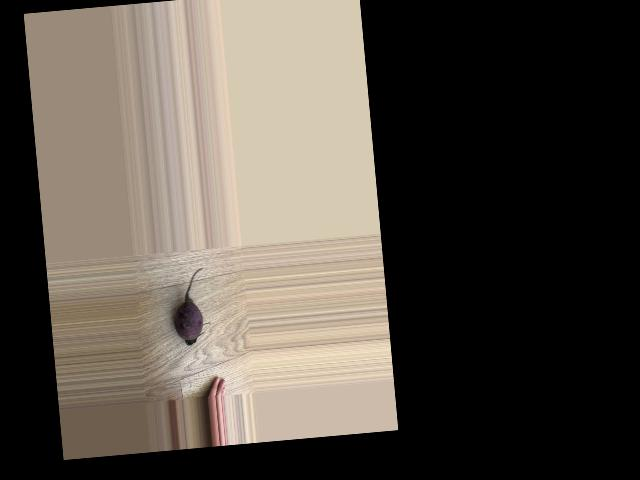beet: (170, 267, 212, 345)
